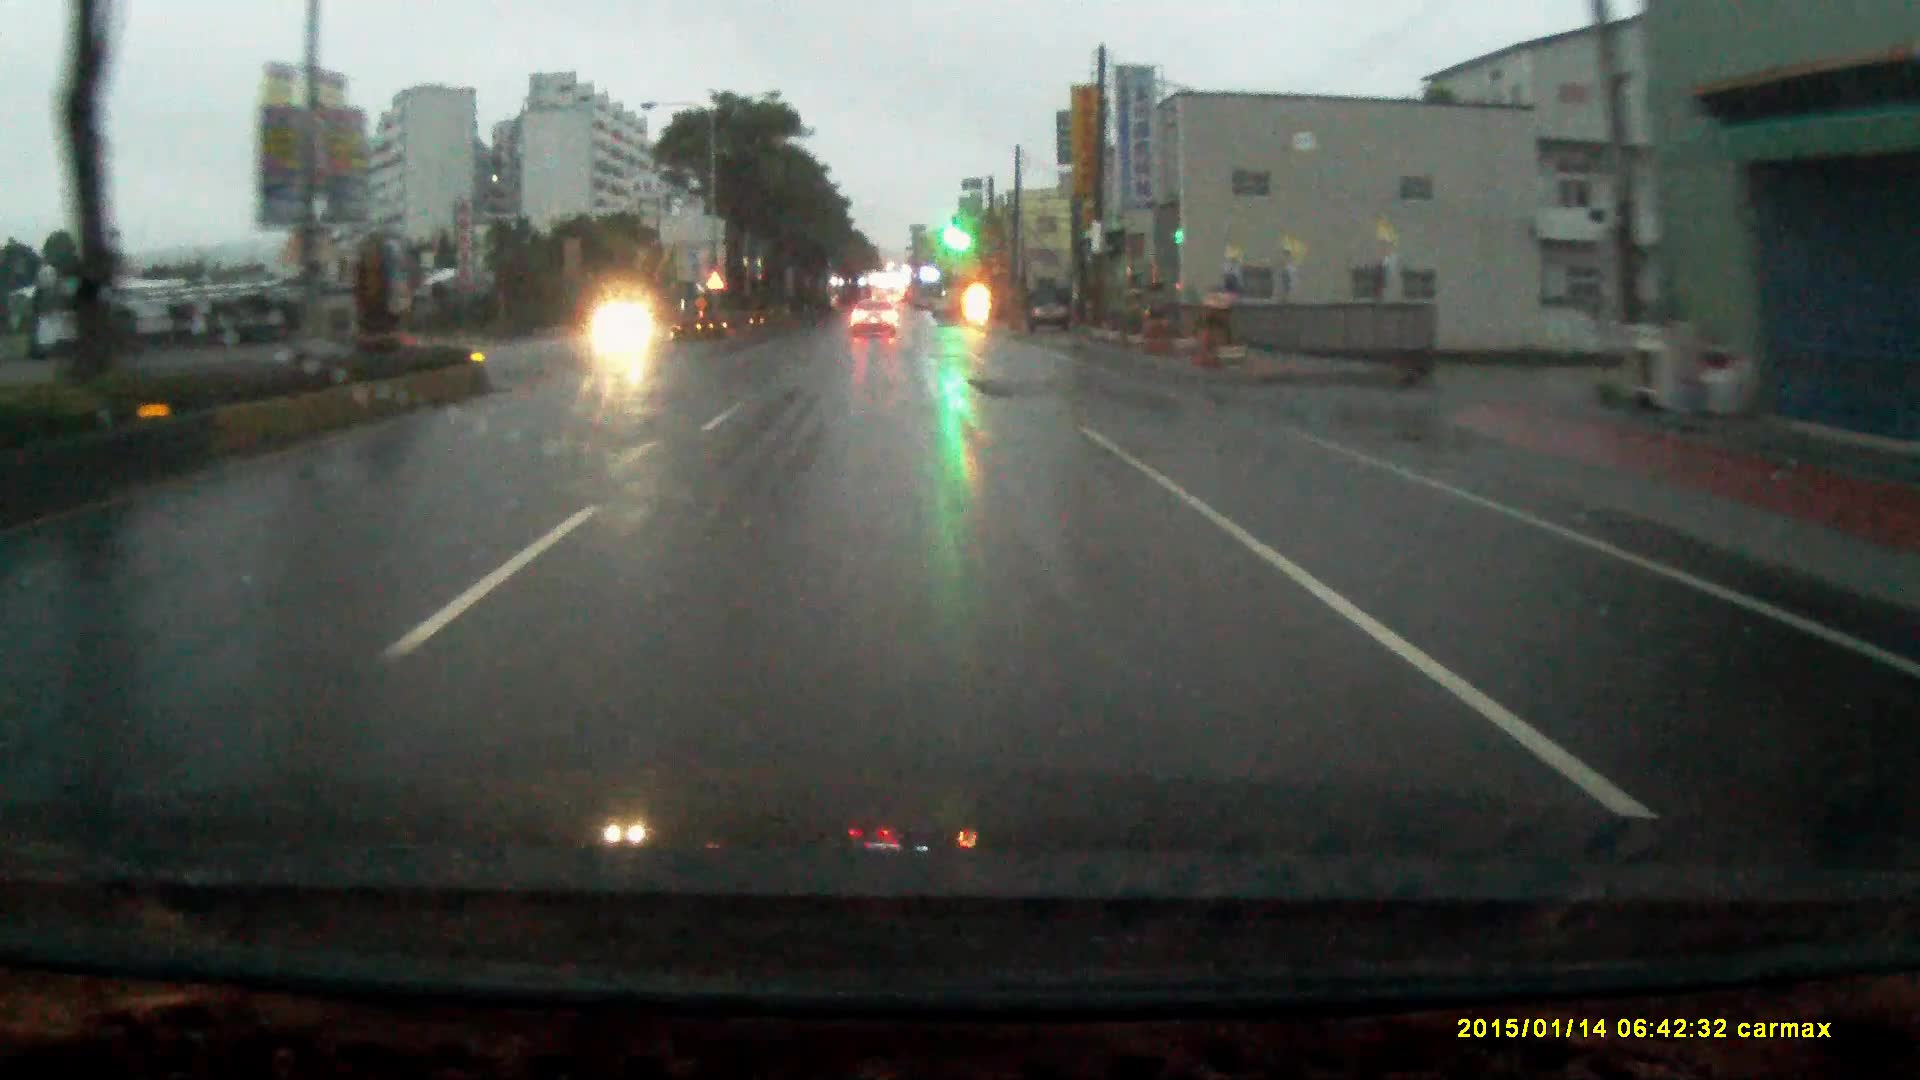vehicle: (847, 298, 899, 335), (1029, 287, 1069, 335)
